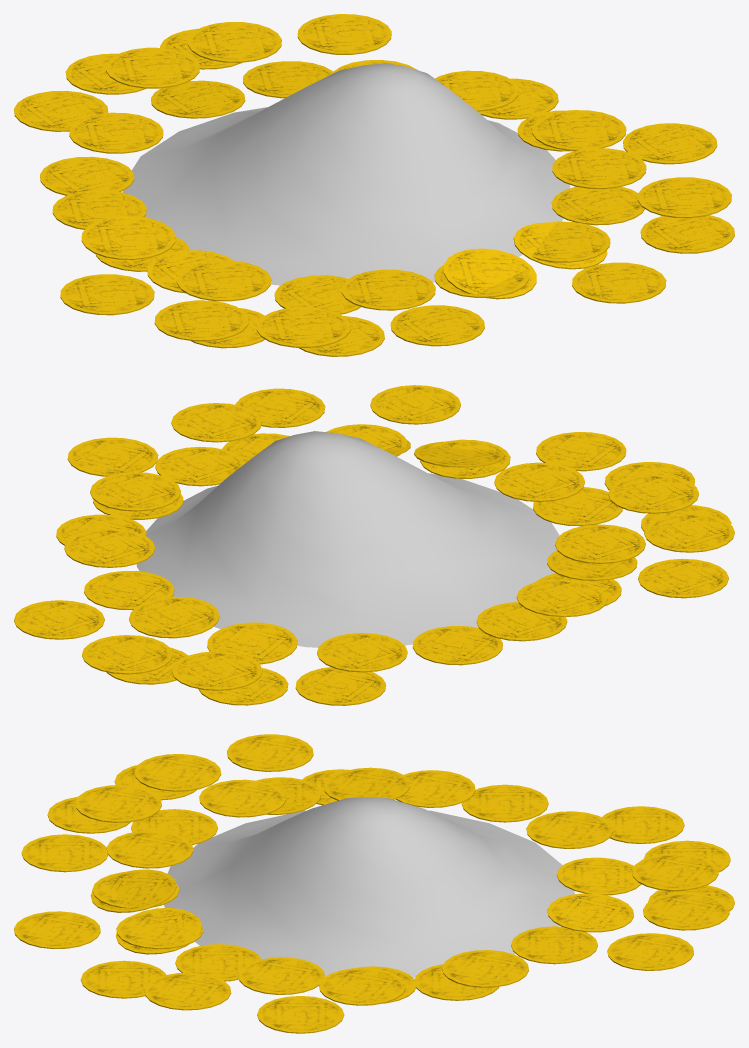
The model's file is Pile Big.fbx.
3 views of the same model, one above another, from view 1: azimuth 30°, elevation 25°; view 2: azimuth 150°, elevation 25°; view 3: azimuth 270°, elevation 25° (orthographic). The views are drawn at different scales.
Parts seen in each view (by area): view 1: Pile_Big, Low_Coin29, Low_Coin31, Low_Coin34, Low_Coin30, Low_Coin36, Low_Coin25, Low_Coin35, Low_Coin61, Low_Coin27, Low_Coin37, Low_Coin23 (+26 smaller); view 2: Pile_Big, Low_Coin26, Low_Coin23, Low_Coin33, Low_Coin25, Low_Coin34, Low_Coin21, Low_Coin24, Low_Coin27, Low_Coin30, Low_Coin36, Low_Coin37 (+26 smaller); view 3: Pile_Big, Low_Coin26, Low_Coin23, Low_Coin27, Low_Coin33, Low_Coin31, Low_Coin65, Low_Coin37, Low_Coin24, Low_Coin30, Low_Coin25, Low_Coin34 (+26 smaller).
Boxes of the visible parts, x1,y1,x2,y2 form: Pile_Big: [123, 63, 570, 285]; Low_Coin29: [81, 216, 175, 259]; Low_Coin31: [341, 269, 435, 310]; Low_Coin34: [154, 300, 248, 341]; Low_Coin30: [177, 260, 271, 301]; Low_Coin36: [572, 262, 666, 303]; Low_Coin25: [106, 47, 199, 88]; Low_Coin35: [60, 274, 154, 315]; Low_Coin61: [390, 305, 484, 346]; Low_Coin27: [69, 112, 163, 153]; Low_Coin37: [637, 177, 731, 218]; Low_Coin23: [297, 14, 391, 54]; Pile_Big: [136, 431, 559, 647]; Low_Coin26: [129, 596, 219, 638]; Low_Coin23: [14, 600, 104, 639]; Low_Coin33: [608, 474, 698, 513]; Low_Coin25: [171, 651, 262, 690]; Low_Coin34: [644, 513, 734, 552]; Low_Coin21: [90, 472, 180, 511]; Low_Coin24: [82, 635, 172, 674]; Low_Coin27: [317, 633, 407, 672]; Low_Coin30: [555, 524, 645, 563]; Low_Coin36: [370, 385, 460, 424]; Low_Coin37: [171, 403, 262, 442]; Pile_Big: [164, 797, 574, 977]; Low_Coin26: [547, 893, 633, 932]; Low_Coin23: [607, 933, 693, 970]; Low_Coin27: [526, 811, 613, 848]; Low_Coin33: [75, 785, 161, 822]; Low_Coin31: [106, 830, 193, 868]; Low_Coin65: [257, 996, 344, 1033]; Low_Coin37: [144, 972, 231, 1010]; Low_Coin24: [643, 892, 729, 930]; Low_Coin30: [199, 779, 285, 817]; Low_Coin25: [632, 853, 718, 891]; Low_Coin34: [134, 754, 221, 791].
Bounding box in the file's own units: 59.98 × 9.88 × 61.71.
